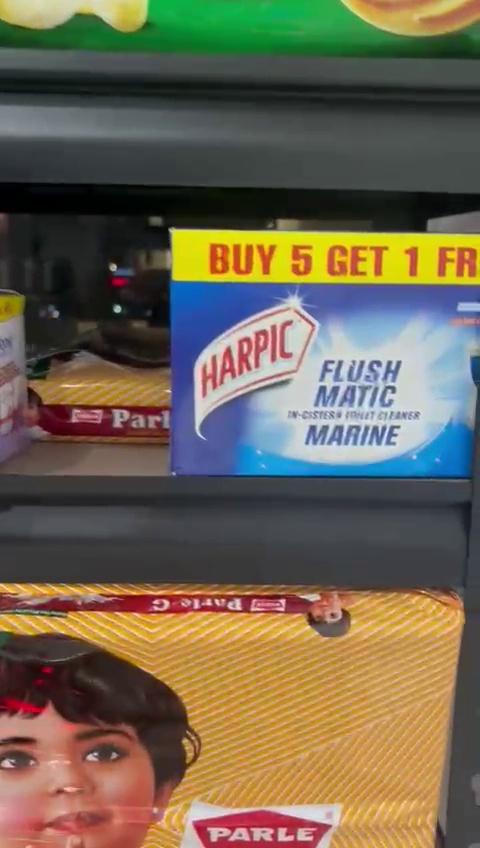Harpic: (166, 224, 480, 479)
